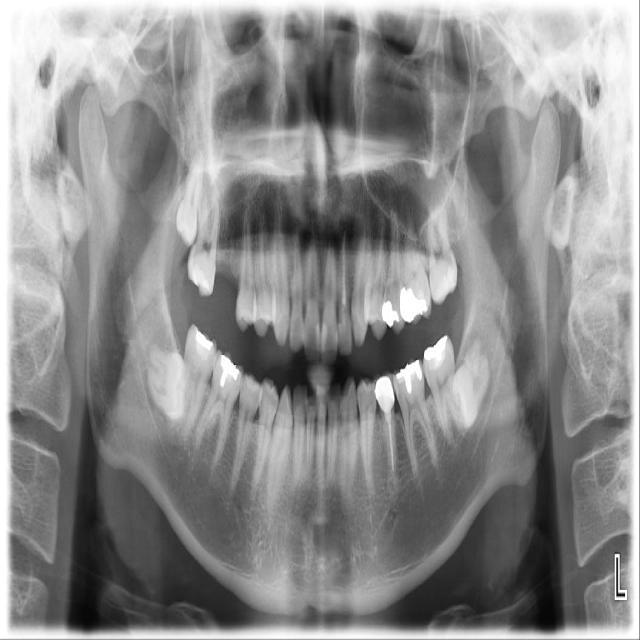Crown: (375, 368, 395, 416)
Filling: (395, 359, 427, 395), (398, 287, 426, 324), (423, 336, 450, 368), (218, 355, 240, 393), (380, 299, 400, 328), (190, 263, 210, 291), (193, 329, 215, 354)
Missing teeth: (212, 261, 242, 314)
Root Canal Treatment: (386, 417, 393, 469)
impacted tooth: (451, 337, 490, 427), (178, 151, 209, 245), (144, 348, 184, 412)
